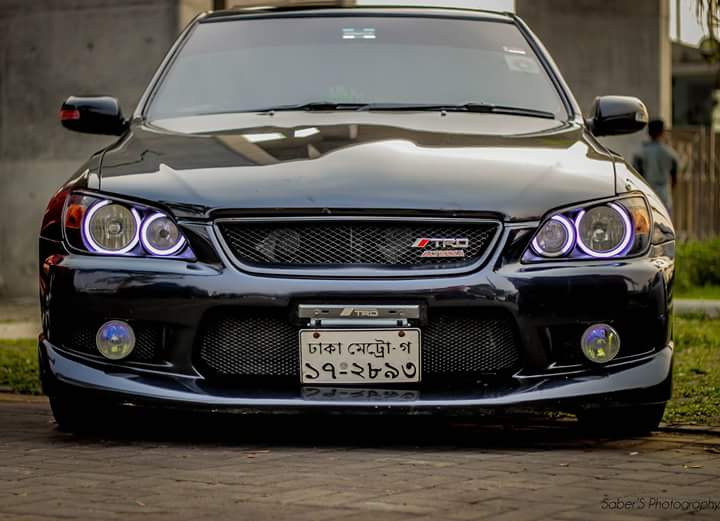registration_plate: (298, 328, 422, 383)
